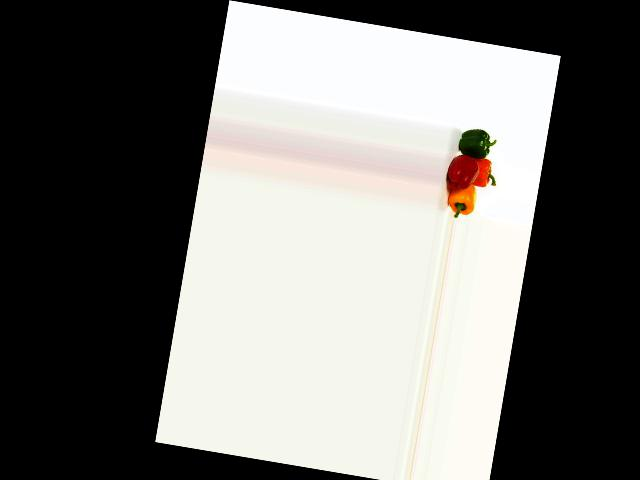bell_pepper: (452, 125, 495, 162)
